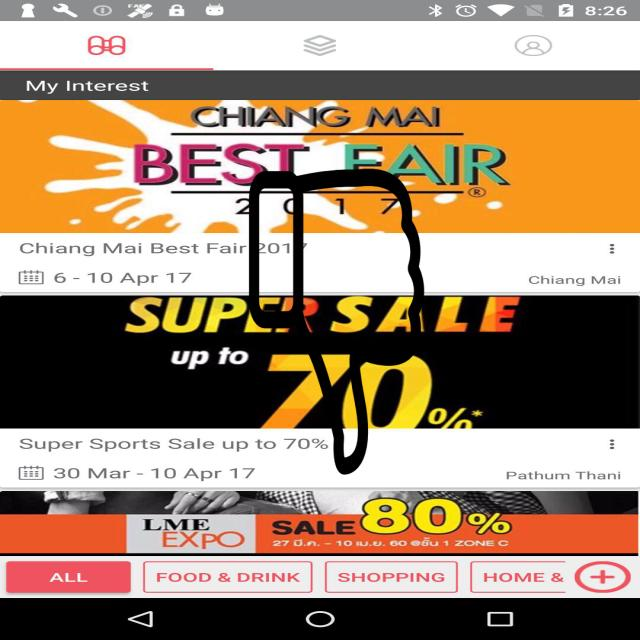obstruction: (246, 168, 426, 474)
